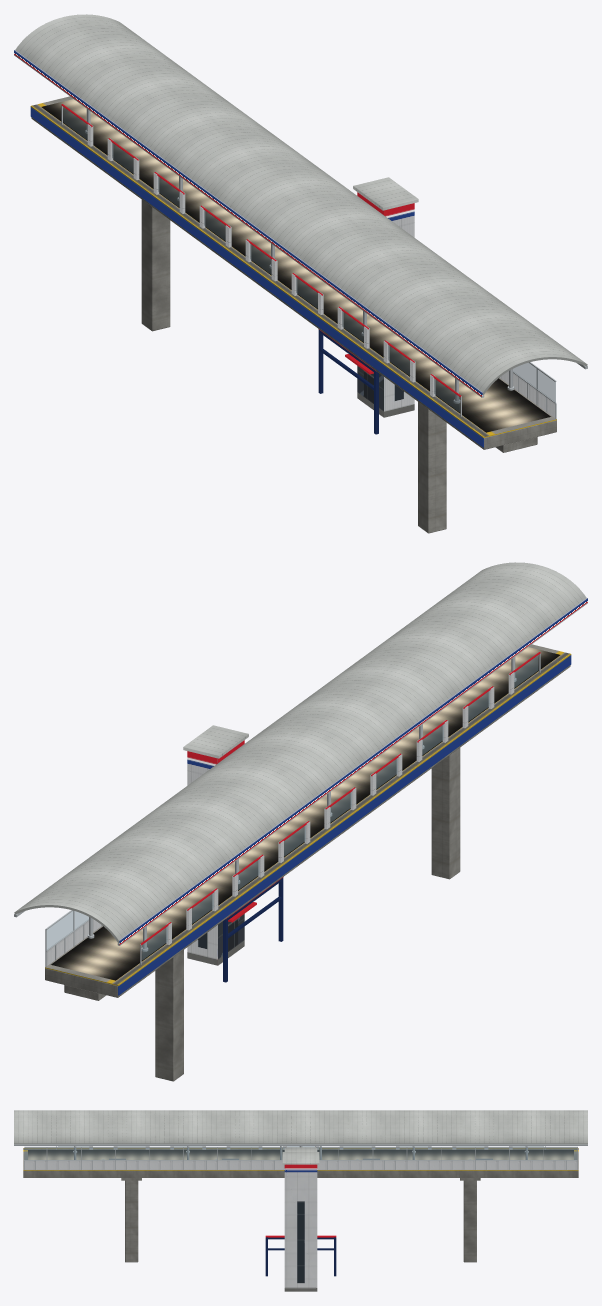
The model's file is LM_LRT_Station.glb.
The picture shows the model from 3 angles, top to bottom: view 1: azimuth 30°, elevation 25°; view 2: azimuth 150°, elevation 25°; view 3: azimuth 270°, elevation 25°; orthographic projection. The views are drawn at different scales.
Parts seen in each view (by area): view 1: station | LRT station roof, station | LRT station cladding, station | LRT night wash, station | LRT station concrete, station | LRT station glass, station | LRT platform floor, station | LRT station steel; view 2: station | LRT station roof, station | LRT station cladding, station | LRT night wash, station | LRT station concrete, station | LRT station glass, station | LRT platform floor, station | LRT station steel; view 3: station | LRT station roof, station | LRT station cladding, station | LRT station glass, station | LRT station concrete, station | LRT night wash, station | LRT station steel, station | LRT platform floor.
Boxes of the visible parts, bbox=[...] form: station | LRT station roof: bbox=[15, 14, 587, 394]; station | LRT station cladding: bbox=[14, 50, 555, 447]; station | LRT night wash: bbox=[41, 99, 550, 432]; station | LRT station concrete: bbox=[31, 117, 556, 533]; station | LRT station glass: bbox=[63, 107, 555, 411]; station | LRT platform floor: bbox=[30, 96, 556, 437]; station | LRT station steel: bbox=[14, 54, 587, 418]; station | LRT station roof: bbox=[14, 562, 586, 942]; station | LRT station cladding: bbox=[46, 598, 587, 995]; station | LRT night wash: bbox=[51, 647, 560, 980]; station | LRT station concrete: bbox=[45, 665, 570, 1081]; station | LRT station glass: bbox=[46, 655, 538, 959]; station | LRT platform floor: bbox=[45, 644, 571, 985]; station | LRT station steel: bbox=[14, 602, 587, 966]; station | LRT station roof: bbox=[14, 1110, 587, 1164]; station | LRT station cladding: bbox=[24, 1146, 577, 1291]; station | LRT station glass: bbox=[24, 1146, 577, 1159]; station | LRT station concrete: bbox=[23, 1170, 578, 1262]; station | LRT night wash: bbox=[28, 1150, 573, 1159]; station | LRT station steel: bbox=[14, 1144, 587, 1169]; station | LRT platform floor: bbox=[23, 1148, 578, 1170].
Bounding box in the file's own units: 11.73 × 17.08 × 61.
Materials: 7 (5 with a texture image).
